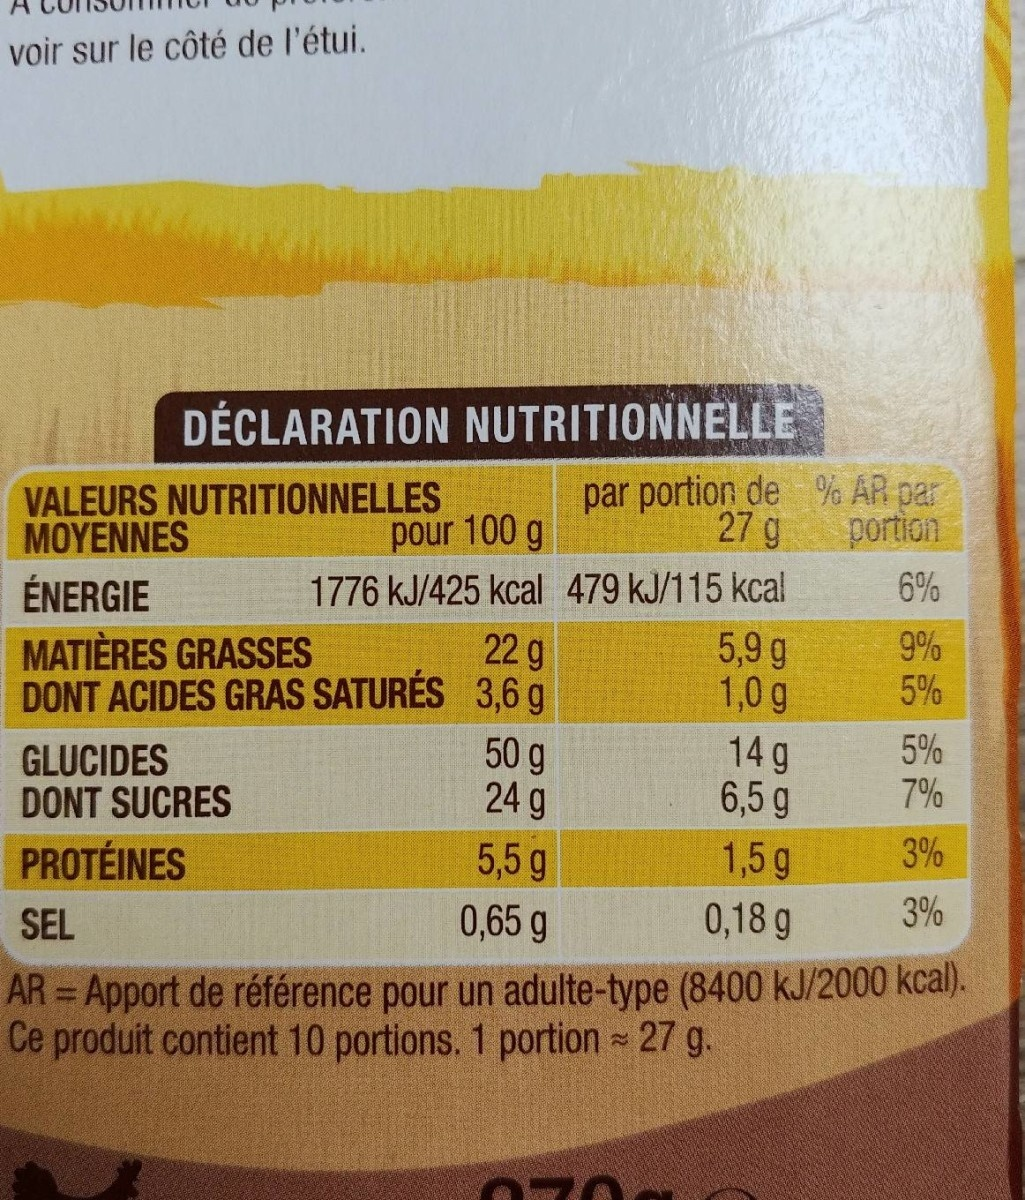column: (11, 472, 551, 952), (567, 472, 794, 944), (804, 470, 945, 946)
table: (4, 463, 985, 966)
